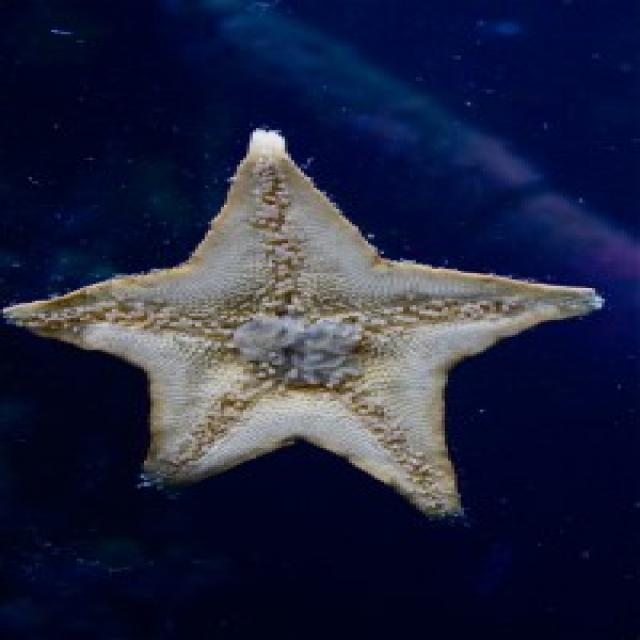Starfish: (7, 120, 620, 536)
